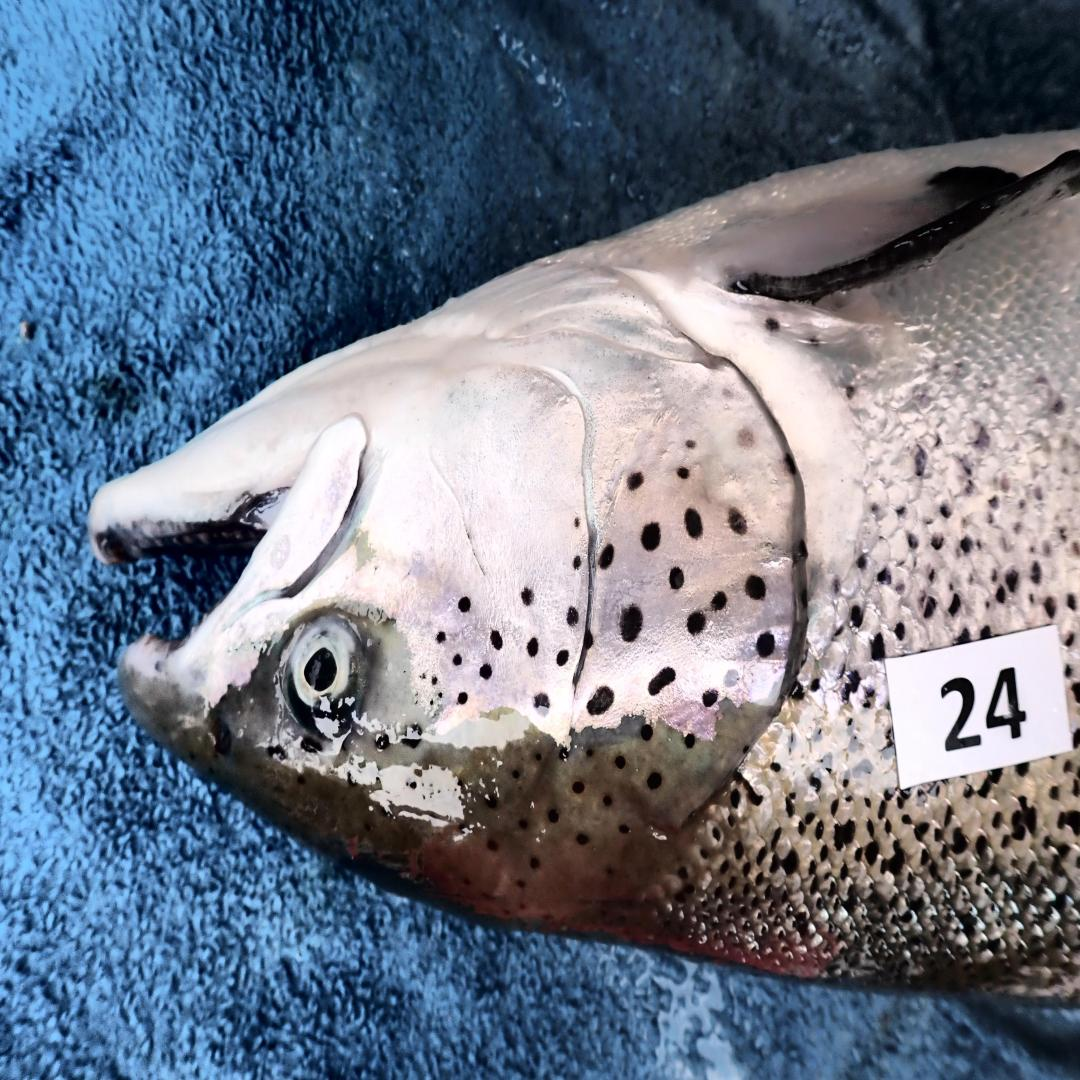spot: (620, 605, 643, 641), (586, 686, 614, 714), (648, 667, 675, 695), (641, 523, 660, 551), (683, 509, 702, 537), (745, 574, 766, 599), (688, 610, 707, 636), (728, 509, 747, 534), (755, 633, 774, 658), (599, 543, 614, 568), (738, 427, 755, 449), (702, 689, 719, 709), (711, 591, 728, 610), (669, 568, 683, 591), (626, 472, 643, 489), (784, 452, 796, 474), (489, 630, 502, 650), (724, 669, 738, 686), (534, 695, 551, 709), (557, 650, 570, 667), (521, 588, 534, 605), (582, 630, 593, 650), (567, 608, 578, 627), (479, 664, 491, 681), (458, 596, 470, 613), (527, 638, 538, 655), (797, 540, 808, 557), (686, 436, 696, 453), (677, 467, 690, 478), (454, 652, 462, 667), (437, 630, 445, 644), (574, 515, 582, 529), (572, 557, 582, 568), (458, 692, 468, 703), (430, 675, 439, 686), (438, 691, 443, 698), (421, 673, 426, 679), (430, 698, 433, 706)
